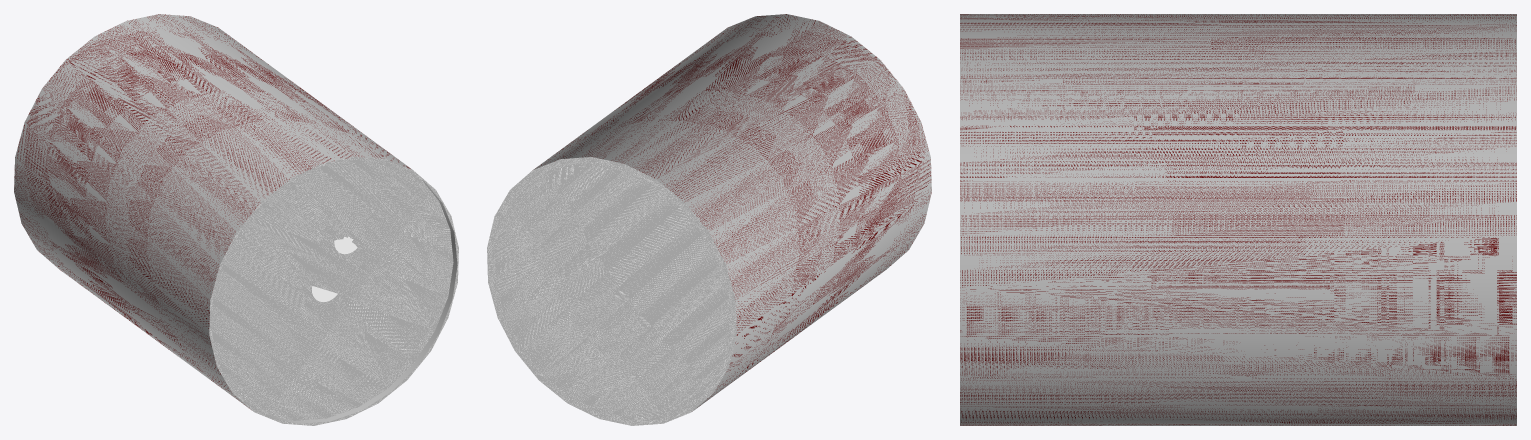
Rendered from model_scale.obj.
3 views of the same model, side by side, from view 1: azimuth 30°, elevation 25°; view 2: azimuth 150°, elevation 25°; view 3: azimuth 270°, elevation 25° (orthographic). The views are drawn at different scales.
Visible parts, largest first — view 1: mesh1_mesh1-geometry; view 2: mesh1_mesh1-geometry; view 3: mesh1_mesh1-geometry.
Part boxes in pixels (x1,y1,x2,y2): mesh1_mesh1-geometry: [14, 14, 458, 425]; mesh1_mesh1-geometry: [487, 14, 931, 425]; mesh1_mesh1-geometry: [960, 14, 1516, 425].
Size of the model in its own units: 0.0903 by 0.0903 by 0.1223.
